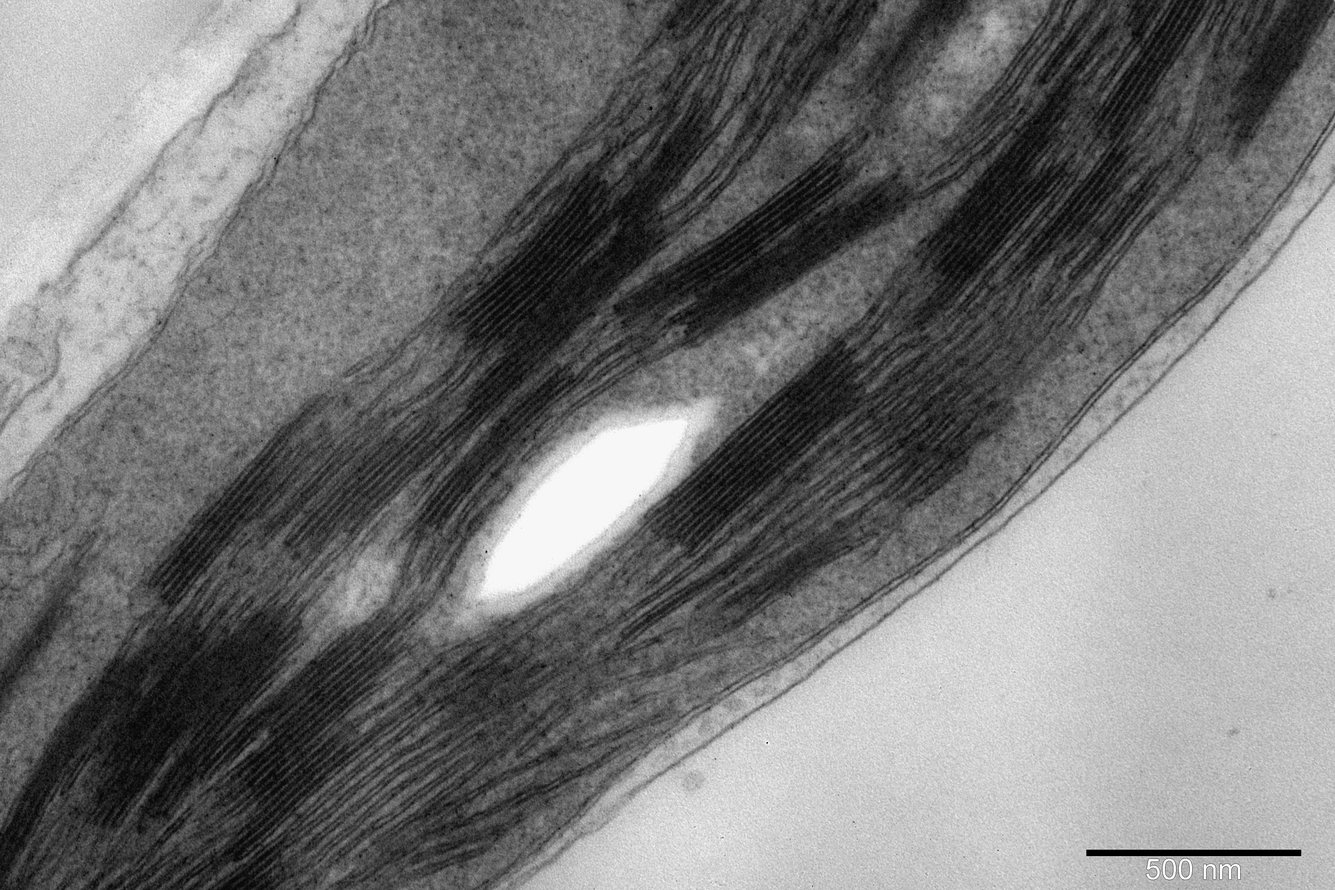granum: (441, 204, 683, 450), (65, 601, 307, 833), (211, 604, 421, 863), (641, 336, 870, 558), (902, 80, 1081, 335), (680, 163, 923, 348), (617, 146, 858, 327), (0, 657, 151, 890), (432, 168, 615, 355), (138, 433, 322, 608), (414, 359, 581, 532), (279, 426, 443, 562), (1001, 142, 1135, 289), (1083, 0, 1215, 147), (1227, 0, 1335, 133), (729, 516, 863, 623), (861, 0, 977, 105), (620, 92, 720, 212), (1083, 176, 1163, 248), (817, 0, 888, 67), (206, 840, 296, 890), (662, 0, 722, 40)
